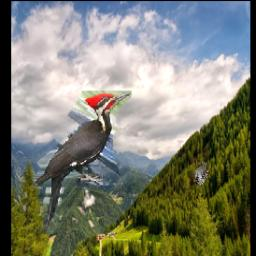Sparrow: (194, 160, 210, 185)
Woodpecker: (33, 91, 132, 234)
